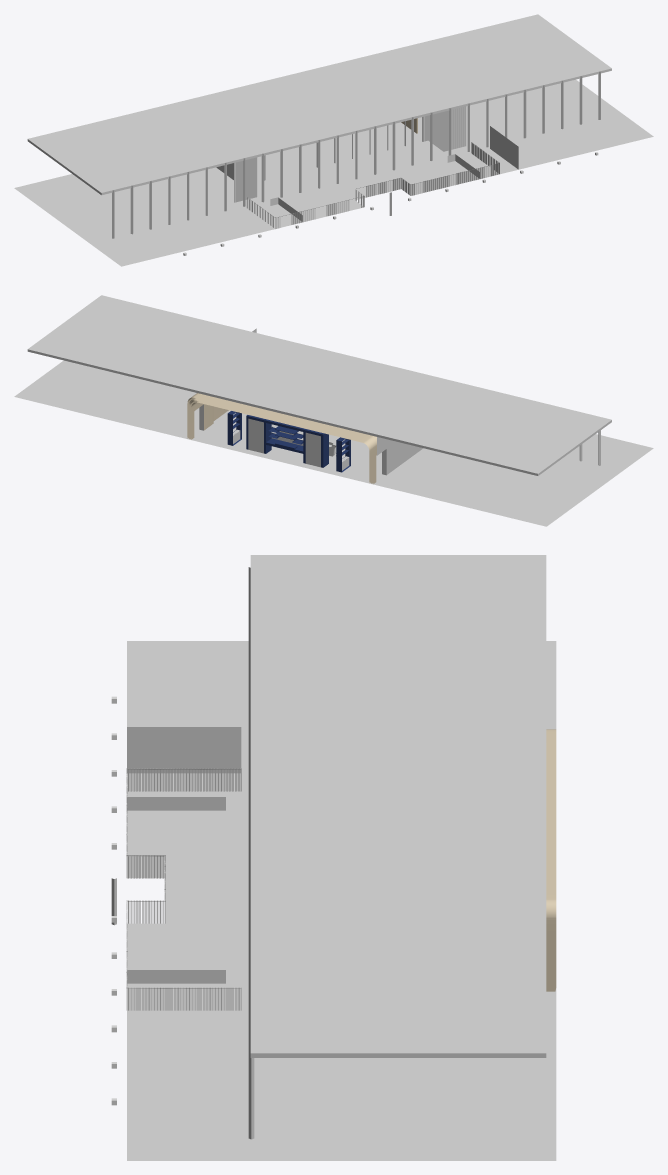
File: EagleBar_V1.glb
3 views of the same model, one above another, from view 1: azimuth 30°, elevation 25°; view 2: azimuth 150°, elevation 25°; view 3: azimuth 270°, elevation 25° (orthographic). The views are drawn at different scales.
Parts seen in each view (by area): view 1: Plane.003, Plane.001, Cube.003, Plane.009, Plane.006, Plane.002; view 2: Plane.003, Plane.001, Plane.011, Plane.013, Plane.012, Plane.002, Plane.017, Plane.015; view 3: Plane.003, Plane.001, Plane.002, Plane.009, Plane.011, Cube.003.
Boxes of the visible parts, left/top/right/bottom form: Plane.003: left=27, top=14, right=611, bottom=195; Plane.001: left=14, top=79, right=653, bottom=266; Cube.003: left=112, top=71, right=600, bottom=238; Plane.009: left=246, top=142, right=499, bottom=228; Plane.006: left=234, top=106, right=466, bottom=202; Plane.002: left=216, top=126, right=518, bottom=221; Plane.003: left=27, top=295, right=611, bottom=475; Plane.001: left=14, top=360, right=653, bottom=526; Plane.011: left=187, top=393, right=376, bottom=483; Plane.013: left=246, top=415, right=328, bottom=467; Plane.012: left=189, top=399, right=371, bottom=483; Plane.002: left=199, top=328, right=423, bottom=475; Plane.017: left=248, top=418, right=320, bottom=467; Plane.015: left=227, top=411, right=350, bottom=472; Plane.003: left=250, top=555, right=546, bottom=1057; Plane.001: left=127, top=641, right=556, bottom=1160; Plane.002: left=127, top=727, right=241, bottom=983; Plane.009: left=126, top=768, right=241, bottom=1010; Plane.011: left=546, top=729, right=556, bottom=991; Cube.003: left=248, top=567, right=254, bottom=1139.
Size of the model in its own units: 48.4 by 5.2 by 17.51.
